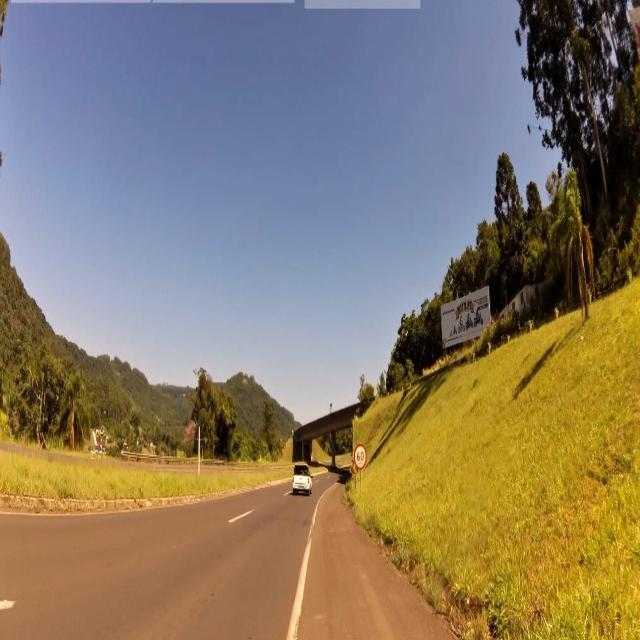R-19: (355, 446, 367, 468)
